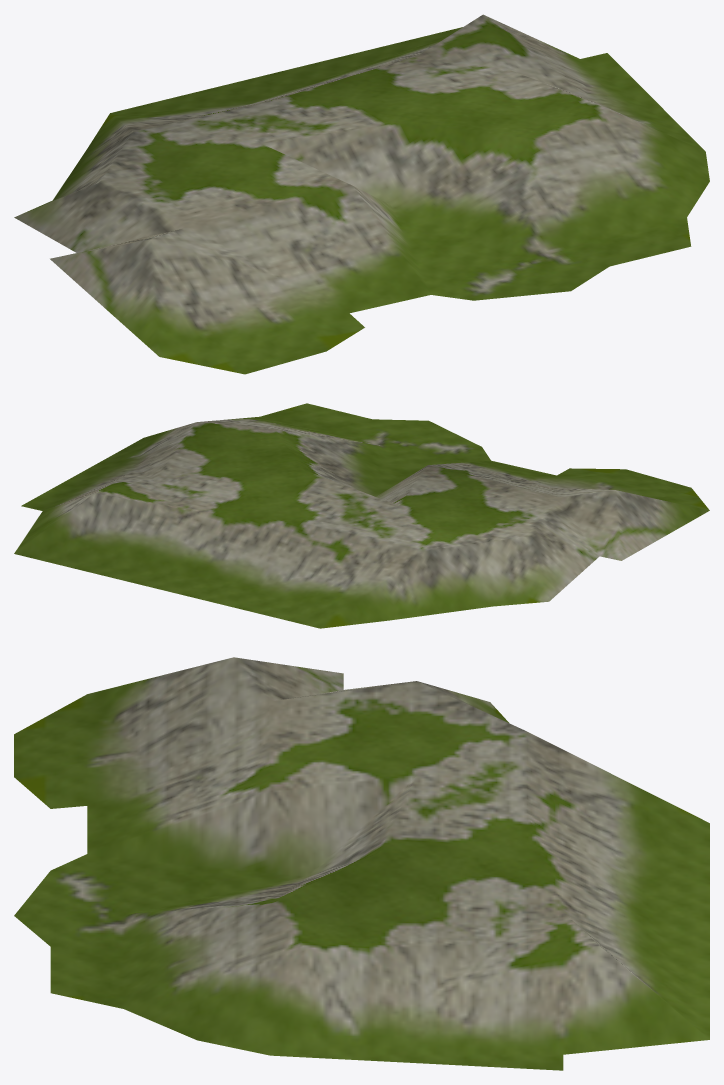
File: Terrain_22.fbx
3 views of the same model, one above another, from view 1: azimuth 30°, elevation 25°; view 2: azimuth 150°, elevation 25°; view 3: azimuth 270°, elevation 25° (orthographic). The views are drawn at different scales.
Parts seen in each view (by area): view 1: Terrain_22; view 2: Terrain_22; view 3: Terrain_22.
Boxes of the visible parts, x1,y1,x2,y2 form: Terrain_22: [14, 14, 709, 374]; Terrain_22: [14, 403, 709, 628]; Terrain_22: [14, 657, 709, 1070].
Bounding box in the file's own units: 48.98 × 4.74 × 38.78.
